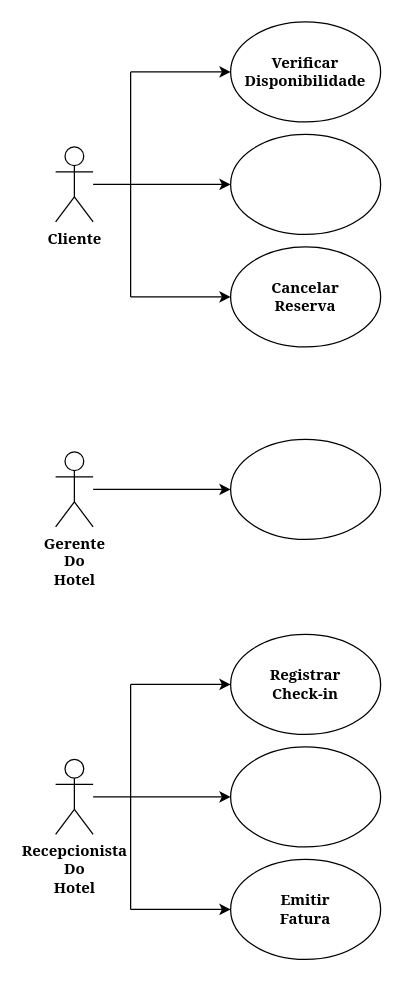
The diagram is 403 pixels wide and 981 high, and some of its shapes have lost their labels. Here are the shapes that lost their labels. From the top down, the centre of each, then its label:
the point at 305,183: Efetuar Reserva
the point at 305,488: Gerenciar Reservas
the point at 305,796: Registrar Check-out
